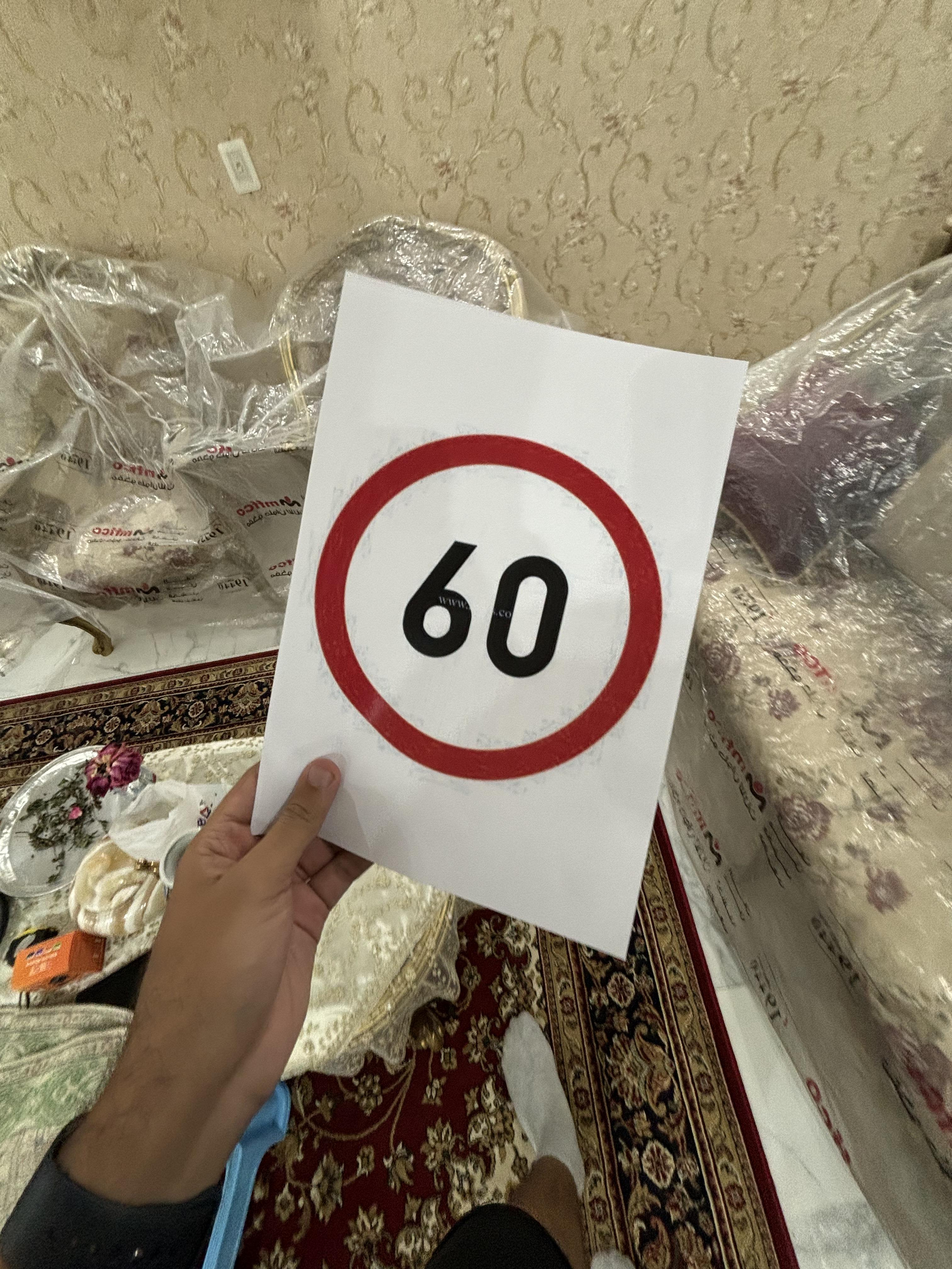60-Speed: (319, 432, 669, 777)
